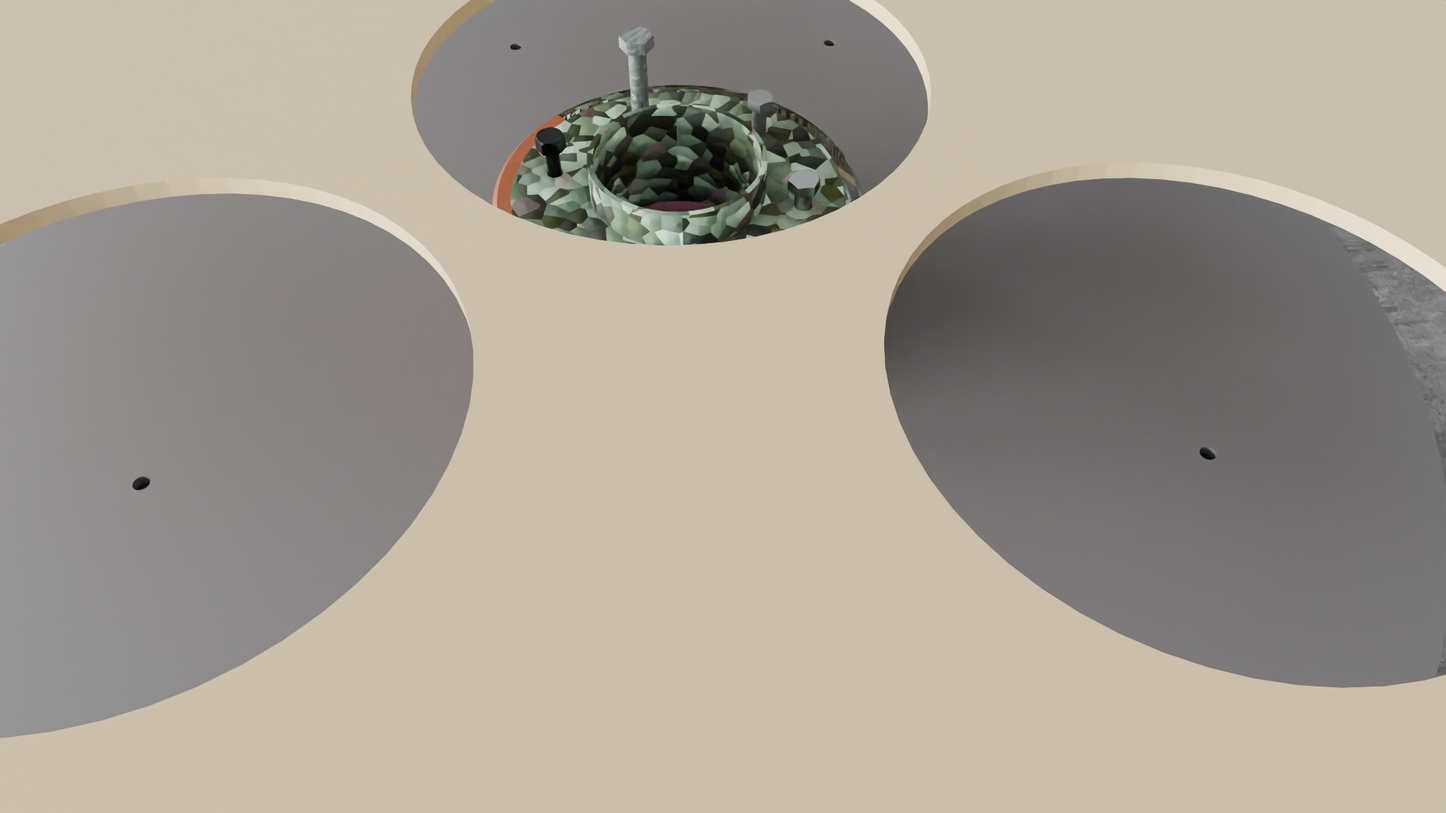bolt: (788, 169, 820, 189), (619, 27, 654, 44), (535, 127, 565, 146), (748, 89, 773, 105)
